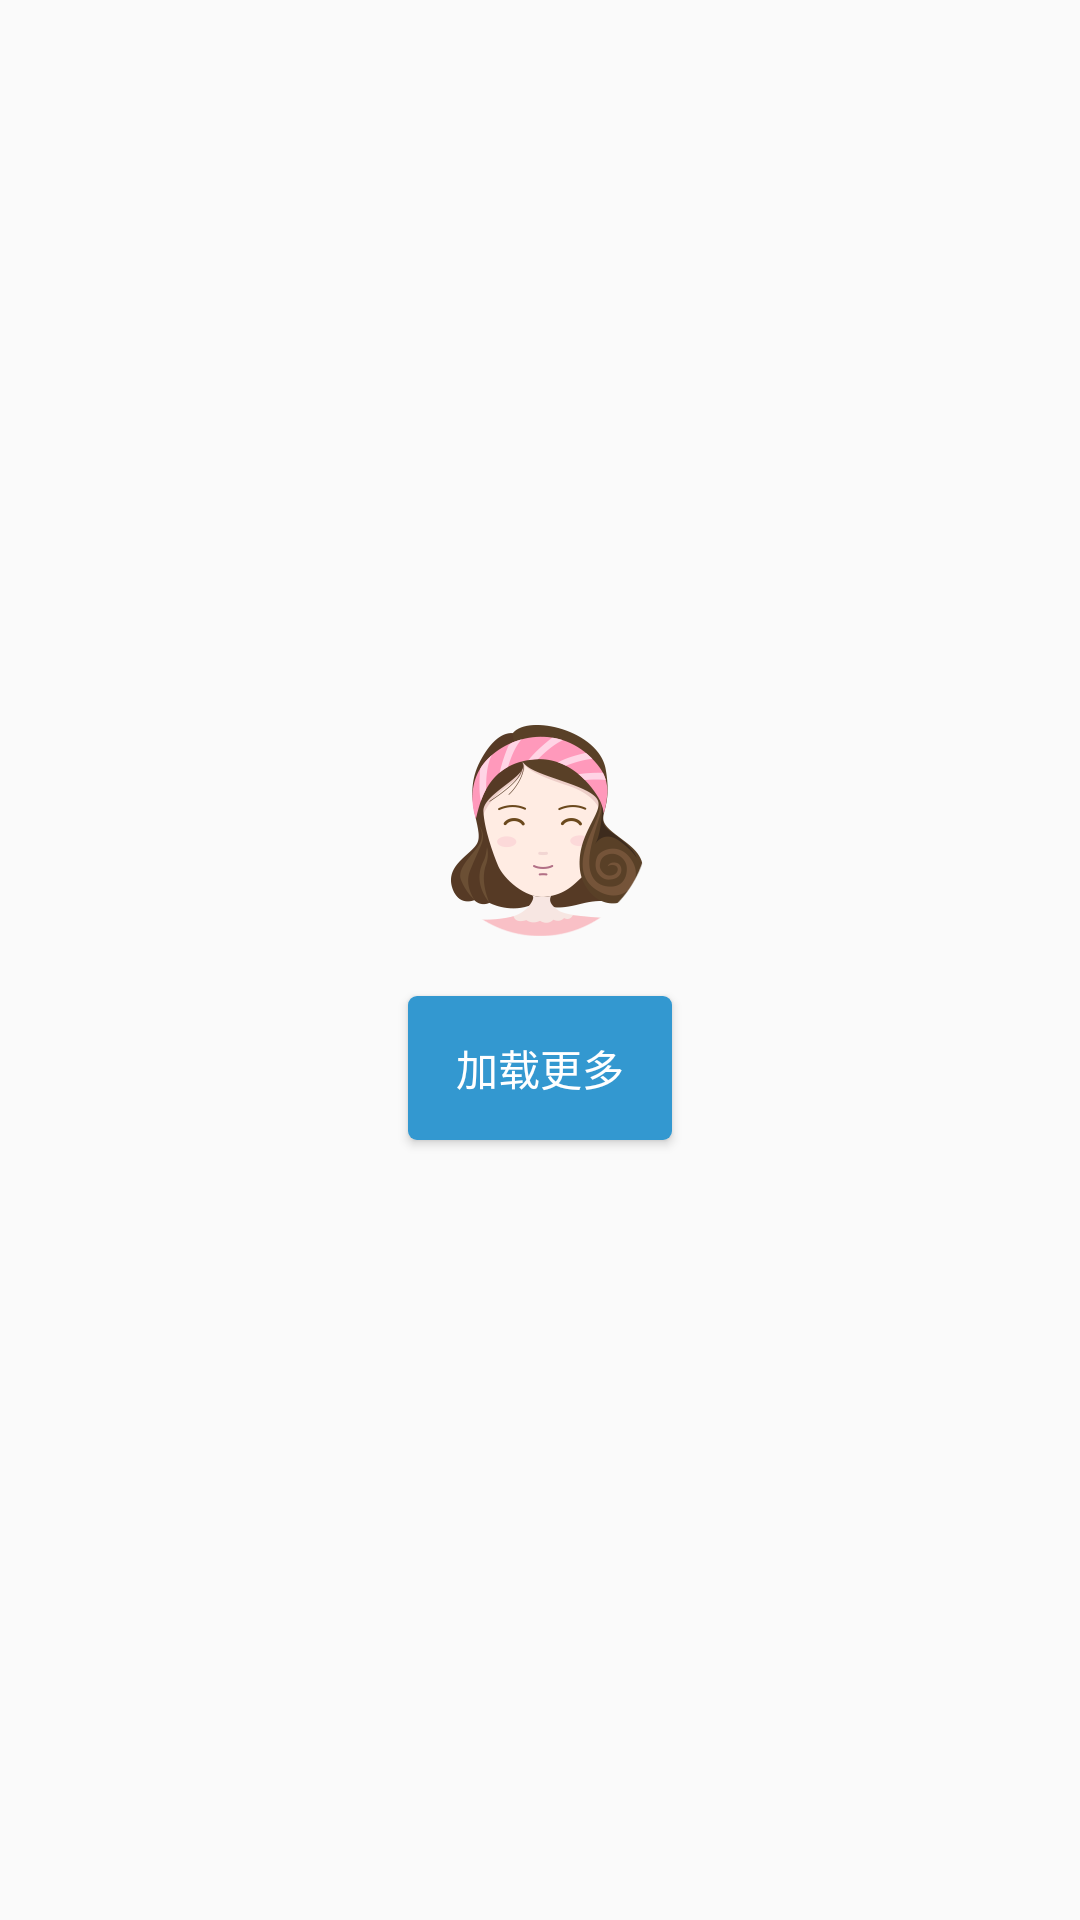

Named icons in this screenshot (1080×1920) and their centers, [x,y]:
womom: [546,830]
